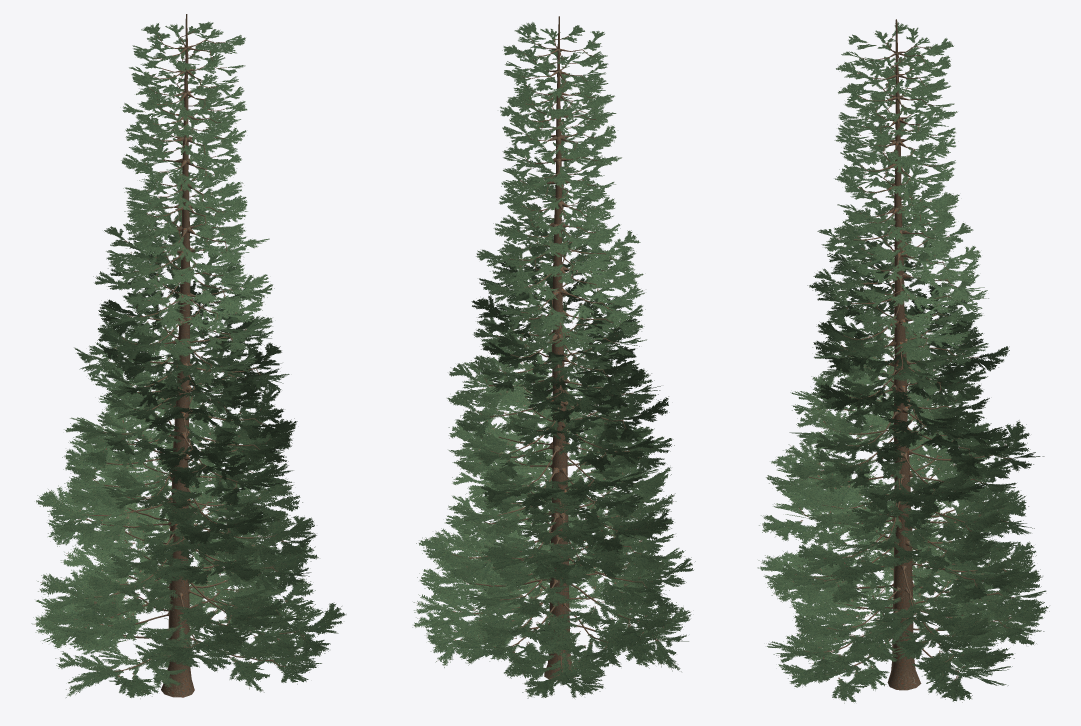
The model's file is Scenery_Spruce_V4.fbx.
The picture shows the model from 3 angles, left to right: view 1: azimuth 30°, elevation 25°; view 2: azimuth 150°, elevation 25°; view 3: azimuth 270°, elevation 25°; orthographic projection. The views are drawn at different scales.
Parts seen in each view (by area): view 1: Scenery_Spruce_V4_LOD0; view 2: Scenery_Spruce_V4_LOD0; view 3: Scenery_Spruce_V4_LOD0.
Boxes of the visible parts, box(x1,y1,x2,y2) form: Scenery_Spruce_V4_LOD0: box(31, 14, 346, 698); Scenery_Spruce_V4_LOD0: box(412, 16, 695, 698); Scenery_Spruce_V4_LOD0: box(757, 19, 1049, 703).
Size of what is drawn, in the model's own units: 9.28 by 21.01 by 9.29.
